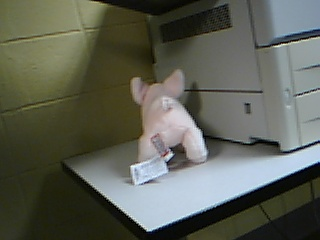piggy: (127, 67, 209, 165)
